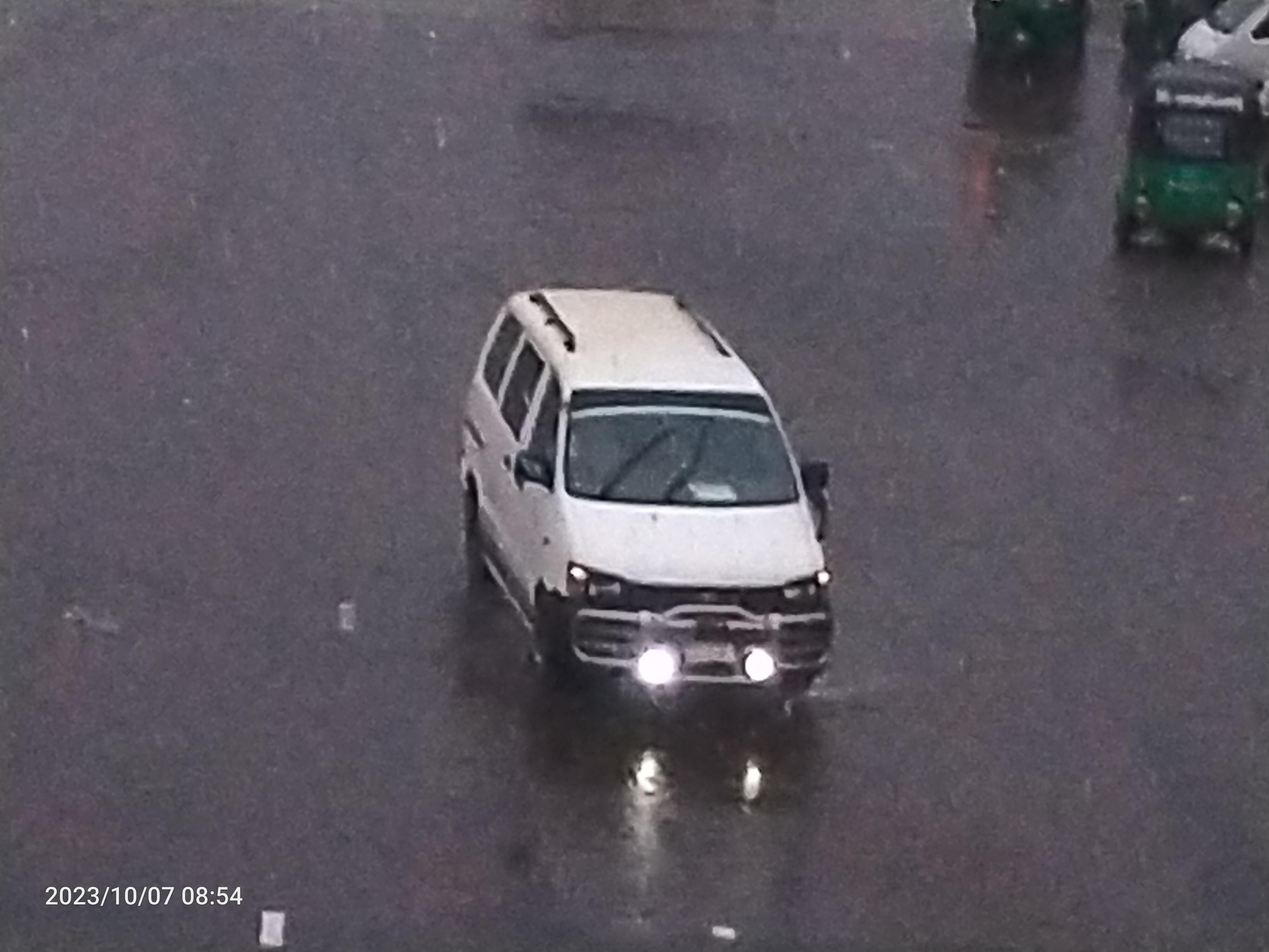Car: (388, 229, 910, 820), (1112, 0, 1269, 80)
